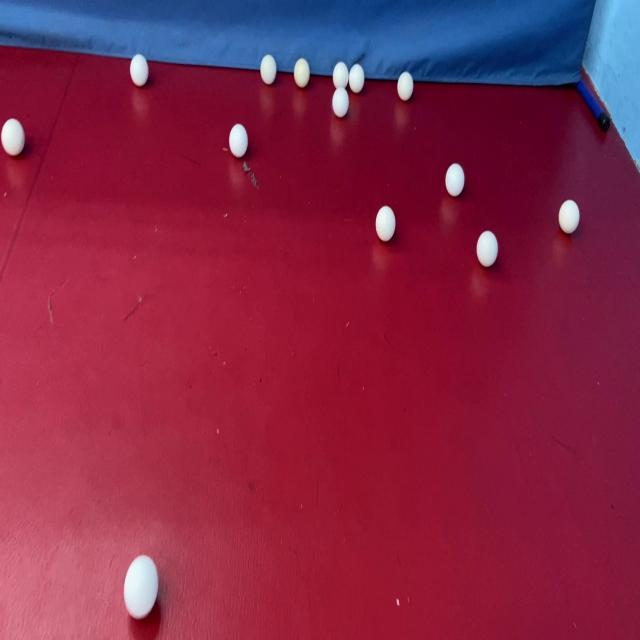ping-pong-ball: (113, 544, 173, 629), (0, 108, 30, 169), (554, 186, 585, 242), (222, 114, 256, 164), (439, 157, 472, 205), (125, 45, 153, 101), (392, 59, 421, 109), (474, 222, 500, 277), (372, 198, 398, 247), (252, 43, 280, 88), (286, 49, 314, 92), (329, 80, 351, 121), (330, 54, 350, 92), (348, 58, 367, 96)
